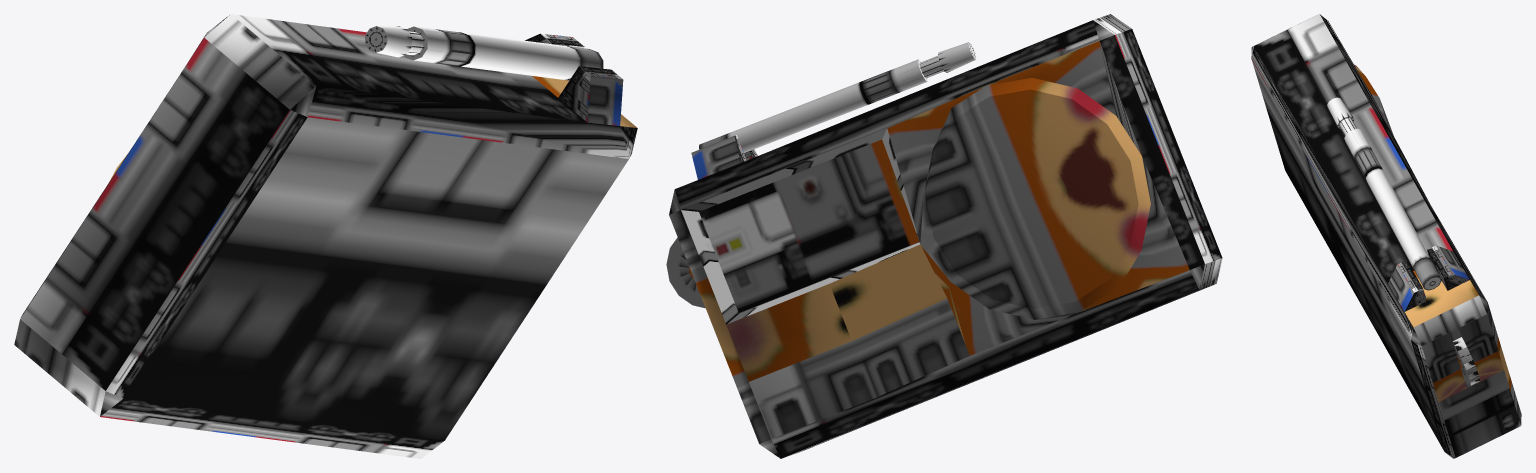
The model's file is icon.obj.
3 views of the same model, side by side, from view 1: azimuth 30°, elevation 25°; view 2: azimuth 150°, elevation 25°; view 3: azimuth 270°, elevation 25° (orthographic). The views are drawn at different scales.
Bounding box in the file's own units: 3.88 × 3.32 × 2.28.
